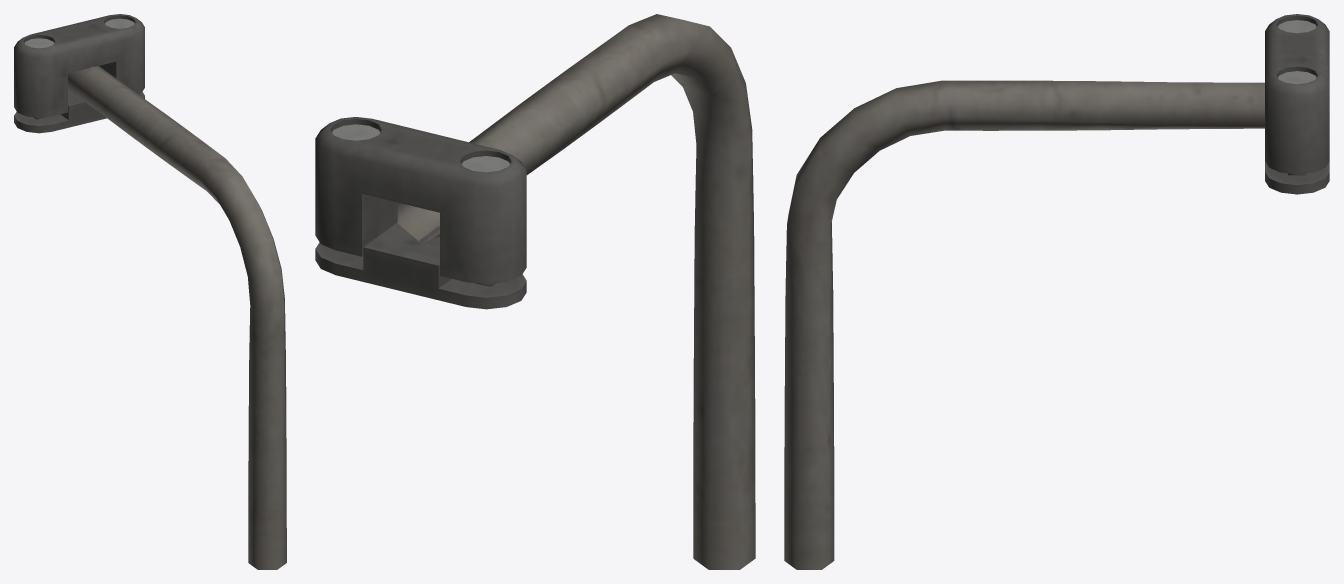
Rendered from cable_corner_away.glb.
3 views of the same model, side by side, from view 1: azimuth 30°, elevation 25°; view 2: azimuth 150°, elevation 25°; view 3: azimuth 270°, elevation 25° (orthographic). The views are drawn at different scales.
Parts seen in each view (by area): view 1: cable_corner_away.001; view 2: cable_corner_away.001; view 3: cable_corner_away.001.
Part boxes in pixels (left/top/right/bottom): cable_corner_away.001: left=14, top=14, right=286, bottom=569; cable_corner_away.001: left=315, top=14, right=755, bottom=569; cable_corner_away.001: left=784, top=14, right=1329, bottom=569.
Bounding box in the file's own units: 0.0416 × 0.1259 × 0.1219.
Materials: 1 (1 with a texture image).
